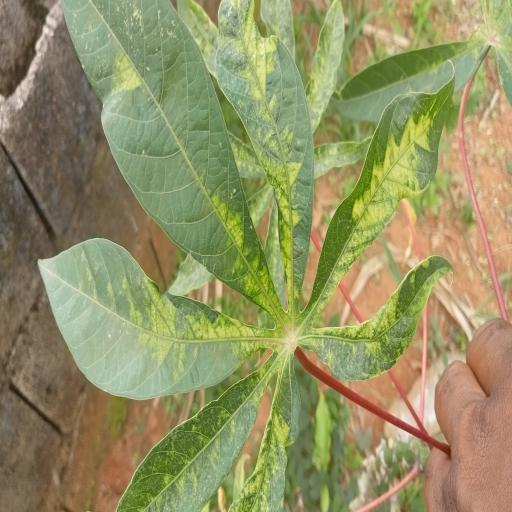Cassava_Mosaic: (39, 0, 423, 512)
